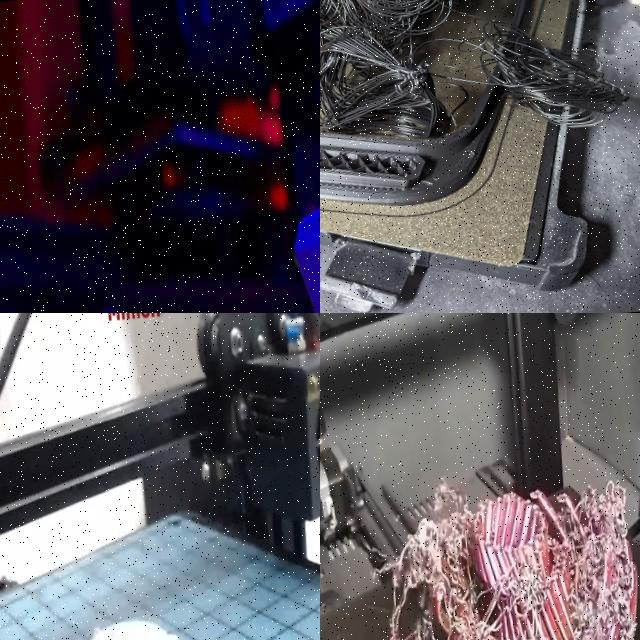spaghetti: (320, 466, 640, 640), (320, 0, 638, 174)
